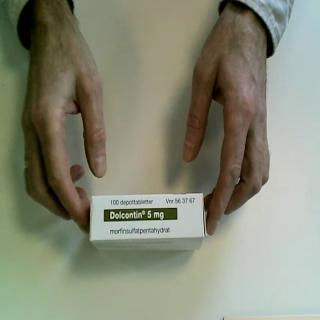dolcontin5mg: (89, 192, 209, 254)
